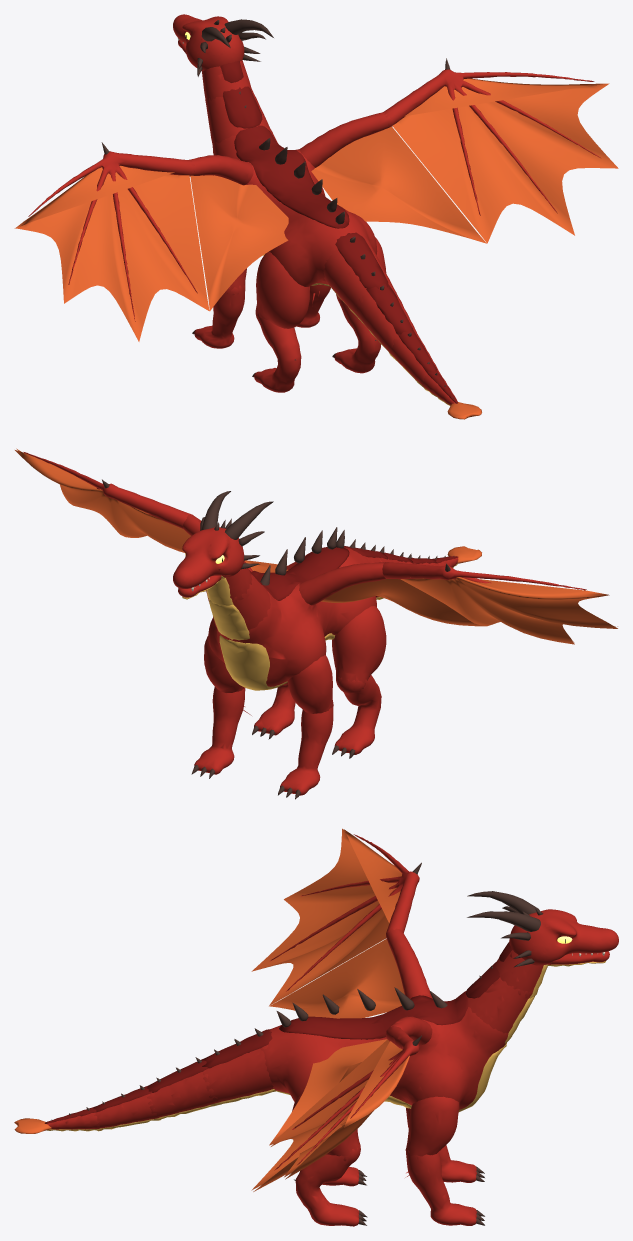
Rendered from Dragon_Sauvage.glb.
The picture shows the model from 3 angles, top to bottom: view 1: azimuth 30°, elevation 25°; view 2: azimuth 150°, elevation 25°; view 3: azimuth 270°, elevation 25°; orthographic projection. The views are drawn at different scales.
Parts seen in each view (by area): view 1: WingLowerR, WingLowerL, WingUpperR, Torso, WingUpperL, Head, Tail1, BackUpperLegL, Neck1, Tail2, BackLowerLegL, FrontLowerLegL (+5 smaller); view 2: Torso, WingLowerL, WingLowerR, WingUpperL, Head, BackUpperLegL, FrontLowerLegL, FrontLowerLegR, BackLowerLegL, Neck1, FrontUpperLegL, BackLowerLegR (+4 smaller); view 3: Torso, WingLowerL, WingLowerR, WingUpperL, Head, Tail1, WingUpperR, BackLowerLegR, Neck1, Tail2, FrontUpperLegR, FrontLowerLegR (+6 smaller).
Part boxes in pixels (bbox=[...]): WingLowerR: bbox=[384, 58, 618, 243]; WingLowerL: bbox=[14, 142, 209, 341]; WingUpperR: bbox=[298, 112, 486, 243]; Torso: bbox=[212, 125, 377, 286]; WingUpperL: bbox=[188, 155, 288, 310]; Head: bbox=[173, 14, 273, 76]; Tail1: bbox=[323, 232, 396, 320]; BackUpperLegL: bbox=[256, 251, 309, 328]; Neck1: bbox=[205, 86, 269, 146]; Tail2: bbox=[356, 283, 417, 357]; BackLowerLegL: bbox=[252, 310, 301, 392]; FrontLowerLegL: bbox=[192, 284, 245, 348]; Torso: bbox=[208, 527, 376, 690]; WingLowerL: bbox=[382, 562, 617, 644]; WingLowerR: bbox=[15, 448, 193, 552]; WingUpperL: bbox=[299, 562, 485, 626]; Head: bbox=[173, 491, 273, 591]; BackUpperLegL: bbox=[332, 606, 386, 693]; FrontLowerLegL: bbox=[278, 706, 333, 799]; FrontLowerLegR: bbox=[191, 686, 245, 778]; BackLowerLegL: bbox=[332, 675, 381, 758]; Neck1: bbox=[206, 570, 270, 640]; FrontUpperLegL: bbox=[287, 655, 333, 713]; BackLowerLegR: bbox=[252, 682, 295, 739]; Torso: bbox=[261, 987, 508, 1111]; WingLowerL: bbox=[251, 828, 421, 1005]; WingLowerR: bbox=[251, 1026, 421, 1191]; WingUpperL: bbox=[269, 928, 431, 1018]; Head: bbox=[467, 891, 618, 967]; Tail1: bbox=[201, 1028, 277, 1106]; WingUpperR: bbox=[269, 1016, 432, 1146]; BackLowerLegR: bbox=[294, 1145, 367, 1226]; Neck1: bbox=[465, 962, 534, 1043]; Tail2: bbox=[147, 1057, 222, 1119]; FrontUpperLegR: bbox=[405, 1096, 459, 1177]; FrontLowerLegR: bbox=[405, 1147, 484, 1225].
Bounding box in the file's own units: 24.04 × 11.26 × 20.54.
2 materials, 1 textured.
